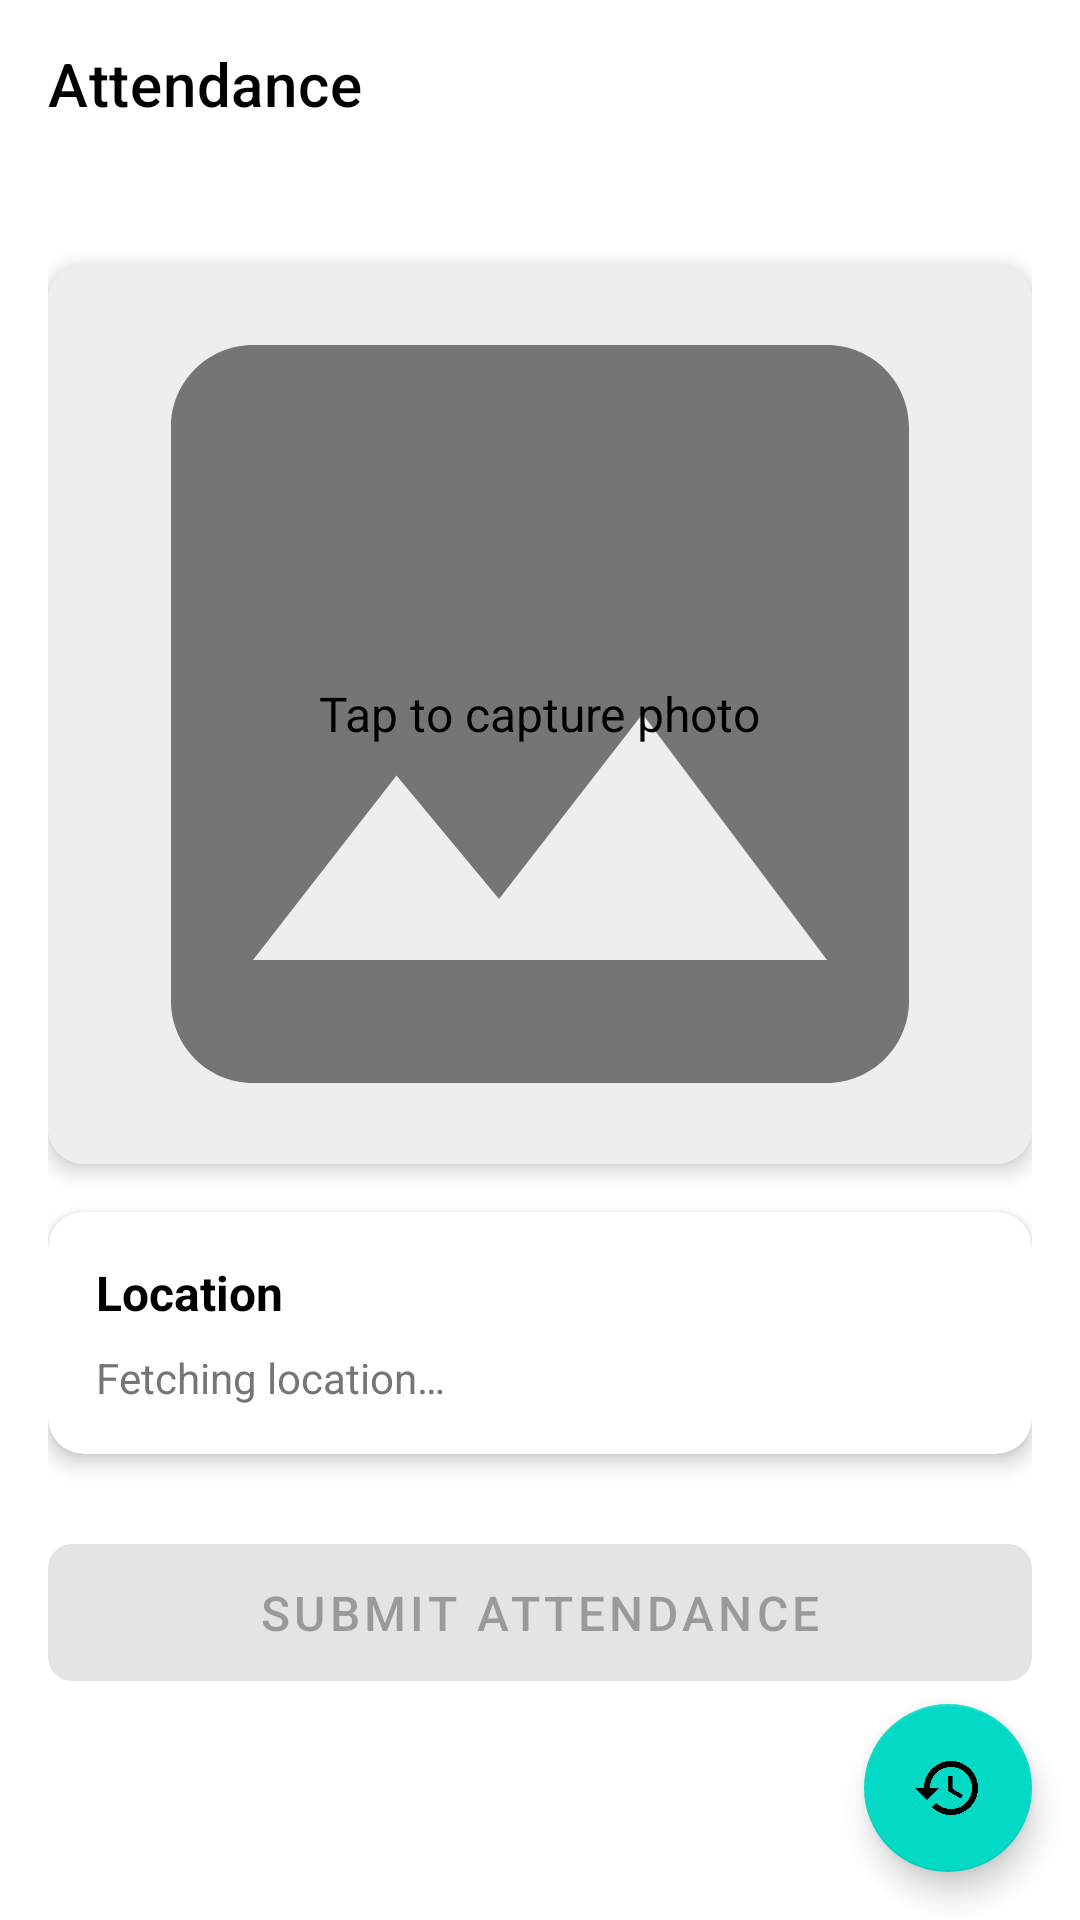

Screen size 1080w x 1920h. Icon name, then its center in pixels as point (x, y):
Attendance History: point (948, 1788)
